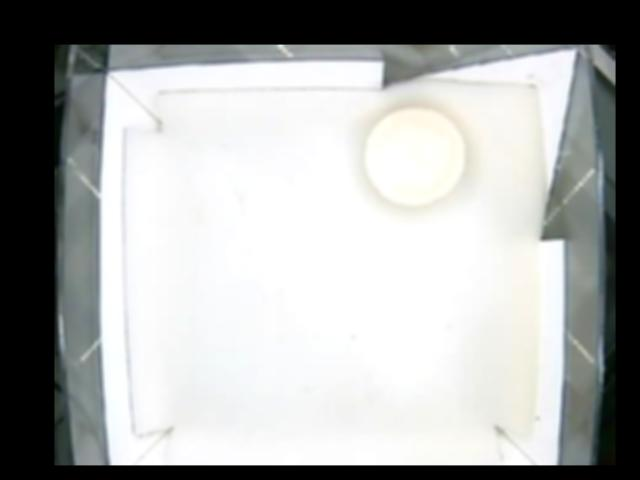Mooli: (367, 108, 469, 207)
